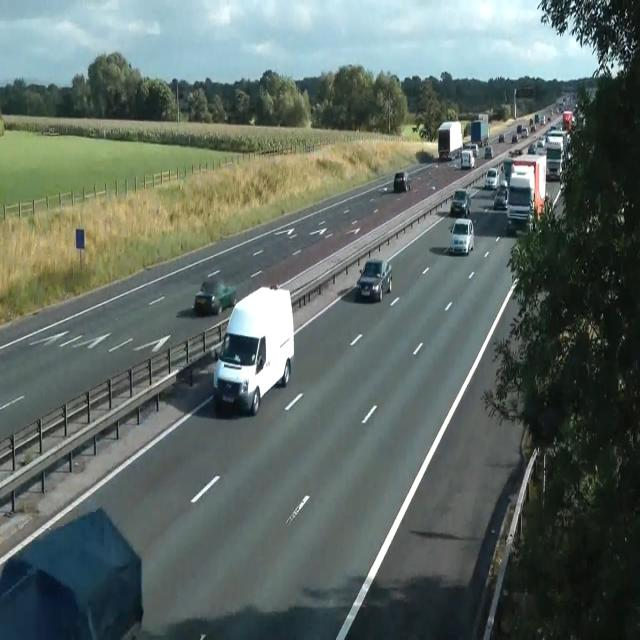bus: (356, 258, 392, 302), (194, 279, 236, 316), (393, 171, 411, 192), (41, 125, 59, 135), (468, 142, 479, 158), (484, 146, 492, 159), (512, 133, 518, 143), (498, 134, 504, 142)
jeep: (212, 283, 294, 416), (505, 174, 533, 234), (449, 217, 474, 255), (450, 187, 470, 217), (492, 184, 508, 209), (484, 167, 500, 190), (460, 149, 474, 169)
minibus: (506, 152, 546, 234), (544, 129, 568, 179), (437, 120, 463, 160), (471, 113, 488, 147)
